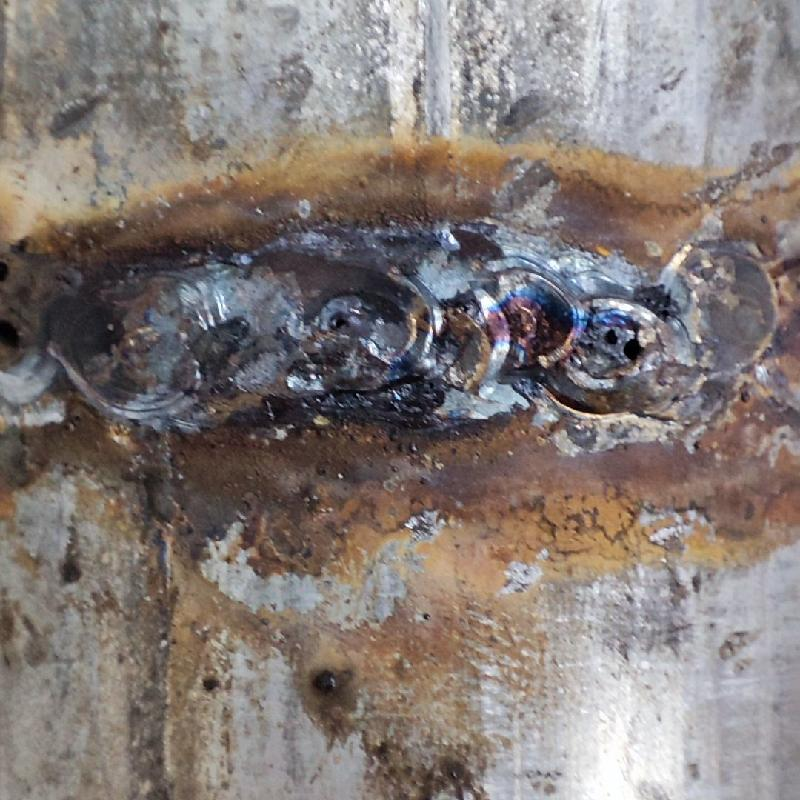Surface_pores: (588, 295, 669, 391)
crater: (5, 244, 794, 433)
